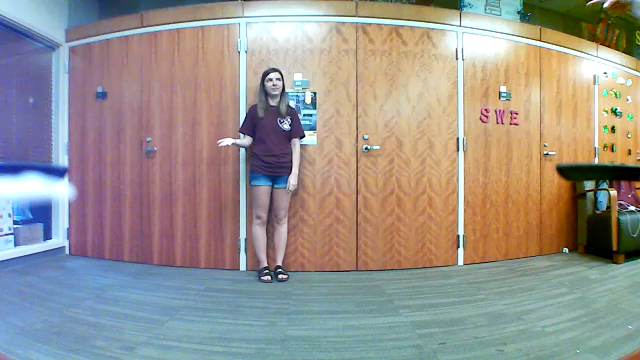land: (212, 132, 239, 153)
